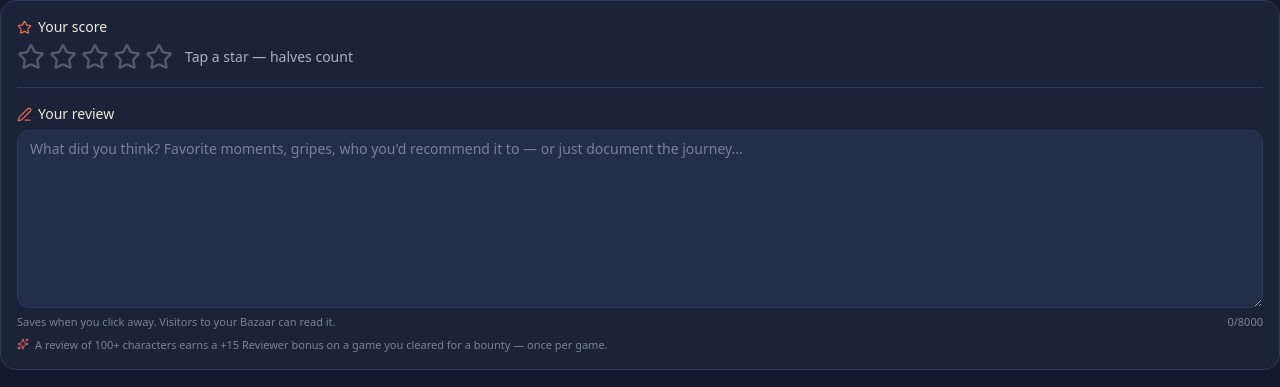
ReviewTab — editor › saves a half-star tap (left zone)
Click the button named "Rate 3.5 stars": [120, 57] box [113,43,127,71]
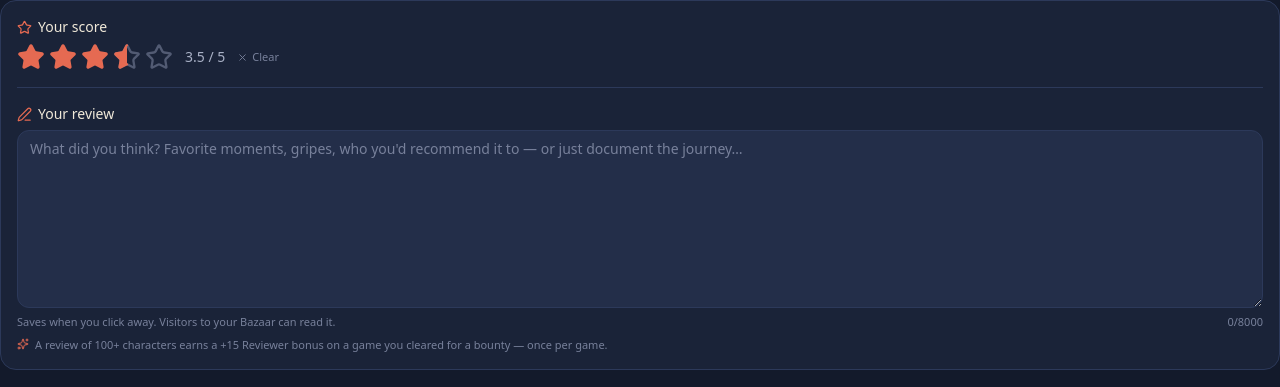
Result: the text "3.5 / 5" is shown at [185,47,225,67]
